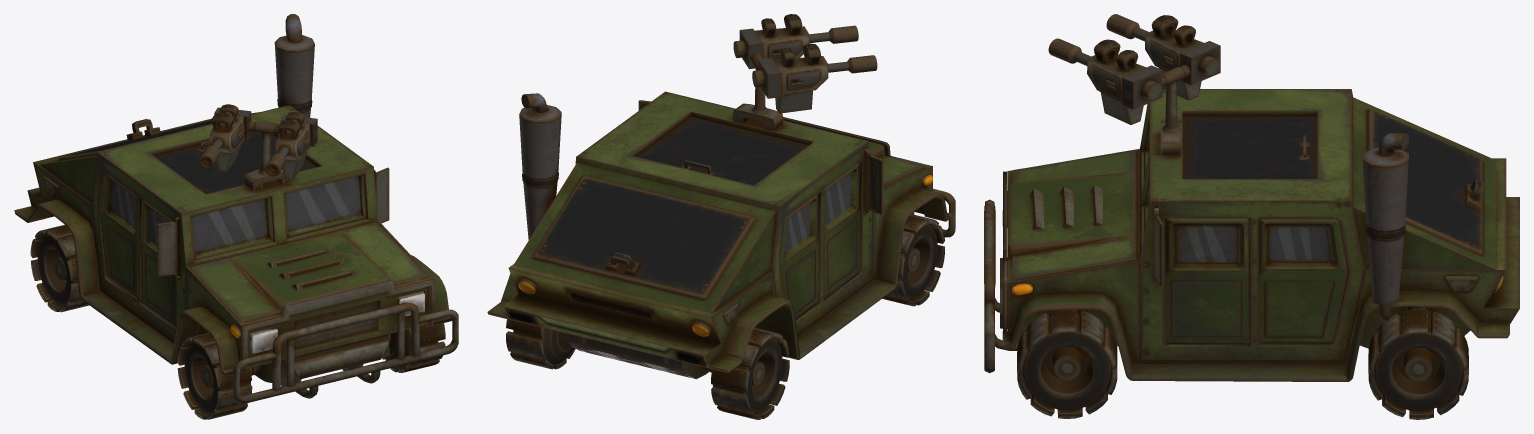
The model's file is zhuangjiache.fbx.
3 renders of one model, left to right at view 1: azimuth 30°, elevation 25°; view 2: azimuth 150°, elevation 25°; view 3: azimuth 270°, elevation 25°, orthographic. The views are drawn at different scales.
Parts seen in each view (by area): view 1: node_id68; view 2: node_id68; view 3: node_id68.
Boxes of the visible parts, <box> form: node_id68: <box>14,14,458,419</box>; node_id68: <box>487,14,955,419</box>; node_id68: <box>984,14,1519,419</box>.
Size of the model in its own units: 63.37 by 62.87 by 99.
1 material, 1 textured.
